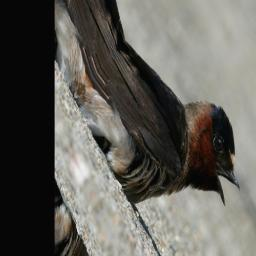Swallow: (72, 0, 256, 256)
